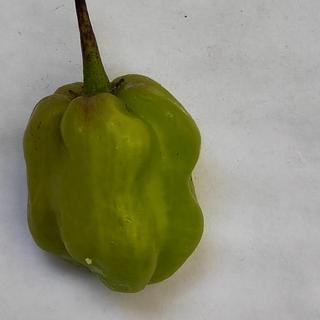Grade-A: (15, 70, 208, 295)
